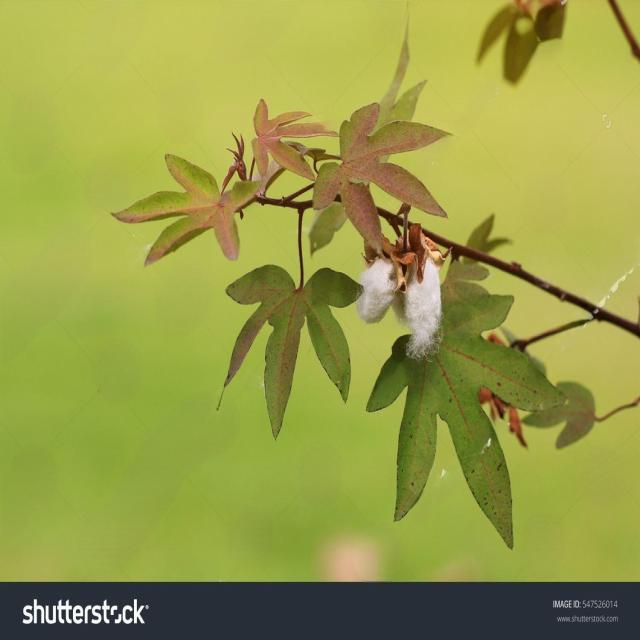Early_blight: (349, 224, 457, 374)
